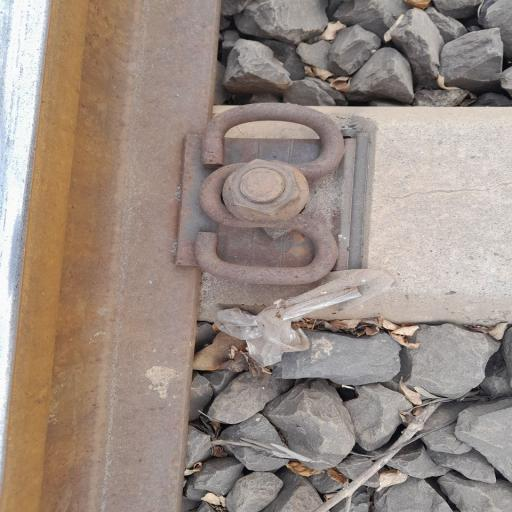bolt: (210, 147, 330, 244)
clip: (176, 96, 402, 300)
